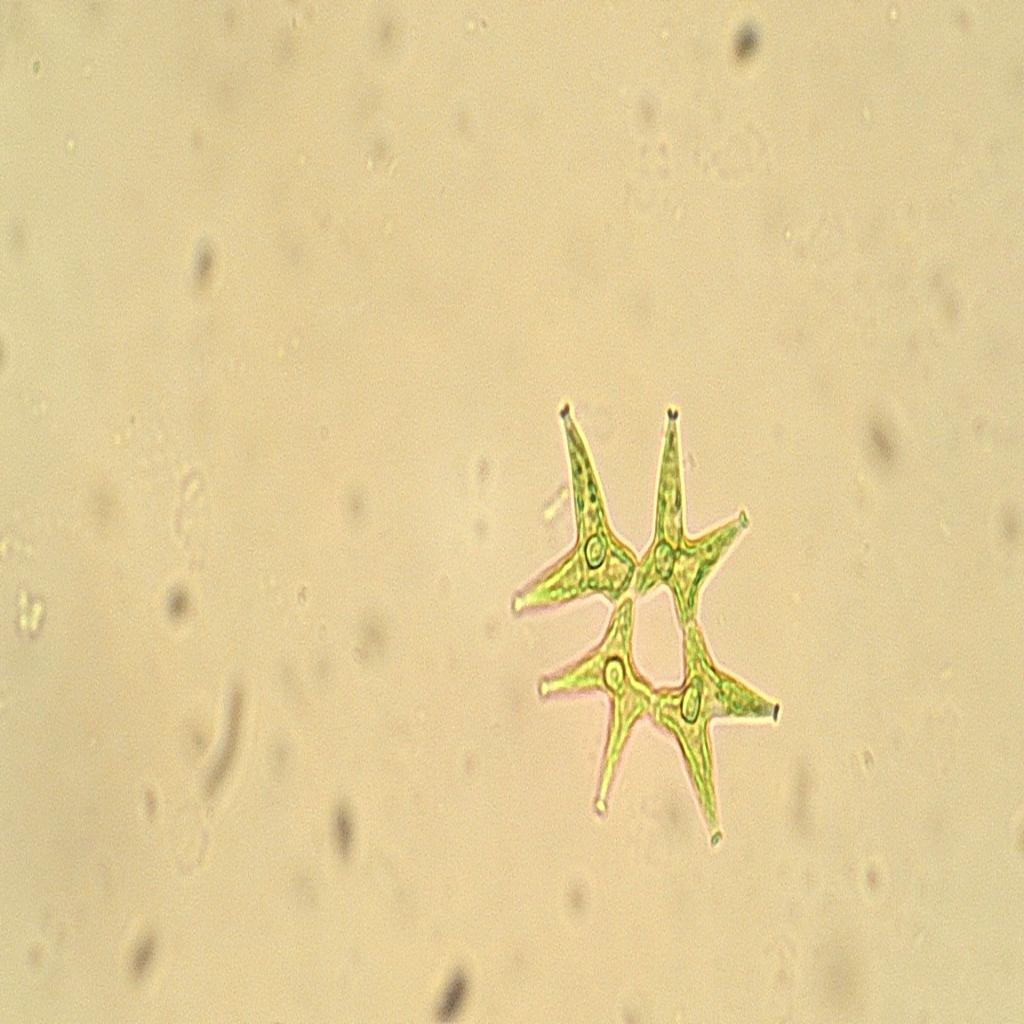Pediastrum_CT: (501, 359, 786, 885)
